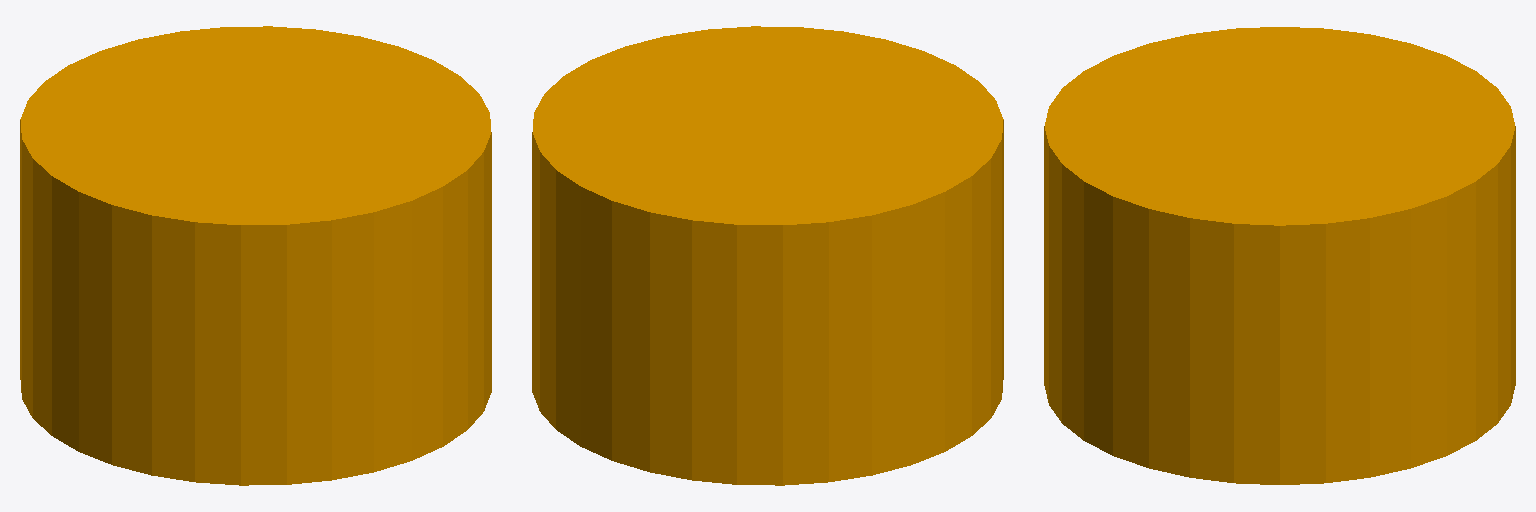
robot.urdf — e-puck:
<?xml version="1.0"?>
<robot name="e-puck" xmlns:xacro="http://ros.org/wiki/xacro">
  <link name="base_link">
    <visual>
      <origin xyz="0 0 0.025" rpy="3.141589 0 0"/>
      <geometry>
        <cylinder radius="0.037" length="0.045"/>
      </geometry>
    </visual>
    <collision>
      <origin xyz="0 0 0.025" rpy="3.141589 0 0"/>
      <geometry>
        <cylinder radius="0.037" length="0.045"/>
      </geometry>
    </collision>
    <visual>
      <origin xyz="0 0 0.0051" rpy="0 0 0"/>
      <geometry>
        <box size="0.05 0.04 0.01"/>
      </geometry>
    </visual>
    <collision>
      <origin xyz="0 0 0.0051" rpy="0 0 0"/>
      <geometry>
        <box size="0.05 0.04 0.01"/>
      </geometry>
    </collision>
  </link>
  <link name="ts_emitter">
  </link>
  <joint name="base_link_ts_emitter_joint" type="fixed">
    <parent link="base_link"/>
    <child link="ts_emitter"/>
    <origin xyz="-0.0095 0 0.0486" rpy="0 0 0"/>
  </joint>
  <link name="speaker">
  </link>
  <joint name="base_link_speaker_joint" type="fixed">
    <parent link="base_link"/>
    <child link="speaker"/>
    <origin xyz="0 0 0" rpy="0 0 0"/>
  </joint>
  <link name="emitter">
  </link>
  <joint name="base_link_emitter_joint" type="fixed">
    <parent link="base_link"/>
    <child link="emitter"/>
    <origin xyz="0 0 0" rpy="0 0 0"/>
  </joint>
  <link name="receiver">
  </link>
  <joint name="base_link_receiver_joint" type="fixed">
    <parent link="base_link"/>
    <child link="receiver"/>
    <origin xyz="0 0 0" rpy="0 0 0"/>
  </joint>
  <link name="pipe">
  </link>
  <joint name="base_link_pipe_joint" type="fixed">
    <parent link="base_link"/>
    <child link="pipe"/>
    <origin xyz="0 0 0.0393" rpy="0 0 0"/>
  </joint>
  <link name="gyro">
  </link>
  <joint name="base_link_gyro_joint" type="fixed">
    <parent link="base_link"/>
    <child link="gyro"/>
    <origin xyz="0 0 0" rpy="0 0 0"/>
  </joint>
  <link name="accelerometer">
  </link>
  <joint name="base_link_accelerometer_joint" type="fixed">
    <parent link="base_link"/>
    <child link="accelerometer"/>
    <origin xyz="0 0 0" rpy="0 0 0"/>
  </joint>
  <link name="led9">
  </link>
  <joint name="base_link_led9_joint" type="fixed">
    <parent link="base_link"/>
    <child link="led9"/>
    <origin xyz="0.031 -0.0125 0.0285" rpy="0 0 0"/>
  </joint>
  <link name="led8">
  </link>
  <joint name="base_link_led8_joint" type="fixed">
    <parent link="base_link"/>
    <child link="led8"/>
    <origin xyz="0 0 0" rpy="0 0 -1.570786"/>
  </joint>
  <link name="led7">
  </link>
  <joint name="base_link_led7_joint" type="fixed">
    <parent link="base_link"/>
    <child link="led7"/>
    <origin xyz="0.022 0.025 0.041" rpy="0 0 0.783185"/>
  </joint>
  <link name="led6">
  </link>
  <joint name="base_link_led6_joint" type="fixed">
    <parent link="base_link"/>
    <child link="led6"/>
    <origin xyz="0 0.0337 0.041" rpy="0 0 1.57"/>
  </joint>
  <link name="led5">
  </link>
  <joint name="base_link_led5_joint" type="fixed">
    <parent link="base_link"/>
    <child link="led5"/>
    <origin xyz="-0.027 0.0201 0.041" rpy="0 0 -0.633185"/>
  </joint>
  <link name="led4">
  </link>
  <joint name="base_link_led4_joint" type="fixed">
    <parent link="base_link"/>
    <child link="led4"/>
    <origin xyz="-0.033 0 0.041" rpy="0 0 0"/>
  </joint>
  <link name="led3">
  </link>
  <joint name="base_link_led3_joint" type="fixed">
    <parent link="base_link"/>
    <child link="led3"/>
    <origin xyz="-0.027 -0.0201 0.041" rpy="0 0 0.633185"/>
  </joint>
  <link name="led2">
  </link>
  <joint name="base_link_led2_joint" type="fixed">
    <parent link="base_link"/>
    <child link="led2"/>
    <origin xyz="0 -0.0337 0.041" rpy="0 0 1.57"/>
  </joint>
  <link name="led1">
  </link>
  <joint name="base_link_led1_joint" type="fixed">
    <parent link="base_link"/>
    <child link="led1"/>
    <origin xyz="0.022 -0.025 0.041" rpy="0 0 -0.783185"/>
  </joint>
  <link name="led0">
  </link>
  <joint name="base_link_led0_joint" type="fixed">
    <parent link="base_link"/>
    <child link="led0"/>
    <origin xyz="0.0337 0 0.041" rpy="0 0 0"/>
  </joint>
  <link name="camera">
  </link>
  <joint name="base_link_camera_joint" type="fixed">
    <parent link="base_link"/>
    <child link="camera"/>
    <origin xyz="0.03 0 0.028" rpy="-1.570796 0 -1.570796"/>
  </joint>
  <link name="ls7">
  </link>
  <joint name="base_link_ls7_joint" type="fixed">
    <parent link="base_link"/>
    <child link="ls7"/>
    <origin xyz="0.03 0.01 0.0329" rpy="1.570806 -0.000007 0.2992"/>
  </joint>
  <link name="ls6">
  </link>
  <joint name="base_link_ls6_joint" type="fixed">
    <parent link="base_link"/>
    <child link="ls6"/>
    <origin xyz="0.022 0.025 0.0329" rpy="1.570801 -0.00001 0.7992"/>
  </joint>
  <link name="ls5">
  </link>
  <joint name="base_link_ls5_joint" type="fixed">
    <parent link="base_link"/>
    <child link="ls5"/>
    <origin xyz="0 0.031 0.0329" rpy="1.570793 -0.000011 1.57079"/>
  </joint>
  <link name="ls4">
  </link>
  <joint name="base_link_ls4_joint" type="fixed">
    <parent link="base_link"/>
    <child link="ls4"/>
    <origin xyz="-0.03 0.015 0.0329" rpy="1.570787 -0.000003 2.6392"/>
  </joint>
  <link name="ls3">
  </link>
  <joint name="base_link_ls3_joint" type="fixed">
    <parent link="base_link"/>
    <child link="ls3"/>
    <origin xyz="-0.03 -0.015 0.0329" rpy="1.570788 0.000007 -2.643986"/>
  </joint>
  <link name="ls2">
  </link>
  <joint name="base_link_ls2_joint" type="fixed">
    <parent link="base_link"/>
    <child link="ls2"/>
    <origin xyz="0 -0.031 0.0329" rpy="1.5708 0.00001 -1.5708"/>
  </joint>
  <link name="ls1">
  </link>
  <joint name="base_link_ls1_joint" type="fixed">
    <parent link="base_link"/>
    <child link="ls1"/>
    <origin xyz="0.022 -0.025 0.0329" rpy="1.570806 0.000005 -0.8008"/>
  </joint>
  <link name="ls0">
  </link>
  <joint name="base_link_ls0_joint" type="fixed">
    <parent link="base_link"/>
    <child link="ls0"/>
    <origin xyz="0.03 -0.01 0.0329" rpy="1.570807 0 -0.3008"/>
  </joint>
  <link name="ps7">
  </link>
  <joint name="base_link_ps7_joint" type="fixed">
    <parent link="base_link"/>
    <child link="ps7"/>
    <origin xyz="0.03 0.01 0.033" rpy="1.570806 -0.000007 0.2992"/>
  </joint>
  <link name="ps7_0">
  </link>
  <joint name="ps7_ps7_0_joint" type="fixed">
    <parent link="ps7"/>
    <child link="ps7_0"/>
    <origin xyz="0 0 0" rpy="-1.570799 0 0.16"/>
  </joint>
  <link name="appearance">
  </link>
  <joint name="ps7_0_appearance_joint" type="fixed">
    <parent link="ps7_0"/>
    <child link="appearance"/>
    <origin xyz="0 0 0" rpy="0 0 0"/>
  </joint>
  <link name="ps6">
  </link>
  <joint name="base_link_ps6_joint" type="fixed">
    <parent link="base_link"/>
    <child link="ps6"/>
    <origin xyz="0.022 0.025 0.033" rpy="1.570801 -0.00001 0.7992"/>
  </joint>
  <link name="ps6_1">
  </link>
  <joint name="ps6_ps6_1_joint" type="fixed">
    <parent link="ps6"/>
    <child link="ps6_1"/>
    <origin xyz="0 0 0" rpy="-1.570799 0 0.16"/>
  </joint>
  <link name="appearance_2">
  </link>
  <joint name="ps6_1_appearance_2_joint" type="fixed">
    <parent link="ps6_1"/>
    <child link="appearance_2"/>
    <origin xyz="0 0 0" rpy="0 0 0"/>
  </joint>
  <link name="ps5">
  </link>
  <joint name="base_link_ps5_joint" type="fixed">
    <parent link="base_link"/>
    <child link="ps5"/>
    <origin xyz="0 0.031 0.033" rpy="1.570793 -0.000011 1.57079"/>
  </joint>
  <link name="ps5_3">
  </link>
  <joint name="ps5_ps5_3_joint" type="fixed">
    <parent link="ps5"/>
    <child link="ps5_3"/>
    <origin xyz="0 0 0" rpy="-1.570799 0 0.16"/>
  </joint>
  <link name="appearance_4">
  </link>
  <joint name="ps5_3_appearance_4_joint" type="fixed">
    <parent link="ps5_3"/>
    <child link="appearance_4"/>
    <origin xyz="0 0 0" rpy="0 0 0"/>
  </joint>
  <link name="ps4">
  </link>
  <joint name="base_link_ps4_joint" type="fixed">
    <parent link="base_link"/>
    <child link="ps4"/>
    <origin xyz="-0.03 0.015 0.033" rpy="1.570787 -0.000003 2.6392"/>
  </joint>
  <link name="ps4_5">
  </link>
  <joint name="ps4_ps4_5_joint" type="fixed">
    <parent link="ps4"/>
    <child link="ps4_5"/>
    <origin xyz="0 0 0" rpy="-1.570799 0 0.16"/>
  </joint>
  <link name="appearance_6">
  </link>
  <joint name="ps4_5_appearance_6_joint" type="fixed">
    <parent link="ps4_5"/>
    <child link="appearance_6"/>
    <origin xyz="0 0 0" rpy="0 0 0"/>
  </joint>
  <link name="ps3">
  </link>
  <joint name="base_link_ps3_joint" type="fixed">
    <parent link="base_link"/>
    <child link="ps3"/>
    <origin xyz="-0.03 -0.015 0.033" rpy="1.570788 0.000007 -2.643986"/>
  </joint>
  <link name="ps3_7">
  </link>
  <joint name="ps3_ps3_7_joint" type="fixed">
    <parent link="ps3"/>
    <child link="ps3_7"/>
    <origin xyz="0 0 0" rpy="-1.570799 0 0.16"/>
  </joint>
  <link name="appearance_8">
  </link>
  <joint name="ps3_7_appearance_8_joint" type="fixed">
    <parent link="ps3_7"/>
    <child link="appearance_8"/>
    <origin xyz="0 0 0" rpy="0 0 0"/>
  </joint>
  <link name="ps2">
  </link>
  <joint name="base_link_ps2_joint" type="fixed">
    <parent link="base_link"/>
    <child link="ps2"/>
    <origin xyz="0 -0.031 0.033" rpy="1.5708 0.00001 -1.5708"/>
  </joint>
  <link name="ps2_9">
  </link>
  <joint name="ps2_ps2_9_joint" type="fixed">
    <parent link="ps2"/>
    <child link="ps2_9"/>
    <origin xyz="0 0 0" rpy="-1.570799 0 0.16"/>
  </joint>
  <link name="appearance_10">
  </link>
  <joint name="ps2_9_appearance_10_joint" type="fixed">
    <parent link="ps2_9"/>
    <child link="appearance_10"/>
    <origin xyz="0 0 0" rpy="0 0 0"/>
  </joint>
  <link name="ps1">
  </link>
  <joint name="base_link_ps1_joint" type="fixed">
    <parent link="base_link"/>
    <child link="ps1"/>
    <origin xyz="0.022 -0.025 0.033" rpy="1.570806 0.000005 -0.8008"/>
  </joint>
  <link name="ps1_11">
  </link>
  <joint name="ps1_ps1_11_joint" type="fixed">
    <parent link="ps1"/>
    <child link="ps1_11"/>
    <origin xyz="0 0 0" rpy="-1.570799 0 0.16"/>
  </joint>
  <link name="appearance_12">
  </link>
  <joint name="ps1_11_appearance_12_joint" type="fixed">
    <parent link="ps1_11"/>
    <child link="appearance_12"/>
    <origin xyz="0 0 0" rpy="0 0 0"/>
  </joint>
  <link name="ps0">
  </link>
  <joint name="base_link_ps0_joint" type="fixed">
    <parent link="base_link"/>
    <child link="ps0"/>
    <origin xyz="0.03 -0.01 0.033" rpy="1.570807 0 -0.3008"/>
  </joint>
  <link name="ps0_13">
  </link>
  <joint name="ps0_ps0_13_joint" type="fixed">
    <parent link="ps0"/>
    <child link="ps0_13"/>
    <origin xyz="0 0 0" rpy="-1.570799 0 0.16"/>
  </joint>
  <link name="appearance_14">
  </link>
  <joint name="ps0_13_appearance_14_joint" type="fixed">
    <parent link="ps0_13"/>
    <child link="appearance_14"/>
    <origin xyz="0 0 0" rpy="0 0 0"/>
  </joint>
  <joint name="right wheel motor" type="continuous">
    <parent link="base_link"/>
    <child link="right wheel"/>
    <axis xyz="0 1 0"/>
    <limit effort="10" velocity="6.28"/>
    <origin xyz="0 0 0.02" rpy="0 0 0"/>
  </joint>
  <link name="right wheel">
    <visual>
      <origin xyz="0 -0.026 0" rpy="1.570796 0 0"/>
      <geometry>
        <cylinder radius="0.02" length="0.005"/>
      </geometry>
    </visual>
    <collision>
      <origin xyz="0 -0.026 0" rpy="1.570796 0 0"/>
      <geometry>
        <cylinder radius="0.02" length="0.005"/>
      </geometry>
    </collision>
  </link>
  <joint name="left wheel motor" type="continuous">
    <parent link="base_link"/>
    <child link="left wheel"/>
    <axis xyz="0 1 0"/>
    <limit effort="10" velocity="6.28"/>
    <origin xyz="0 -0.026 0.02" rpy="0 0 0"/>
  </joint>
  <link name="left wheel">
    <visual>
      <origin xyz="0 0.026 0" rpy="1.570796 0 0"/>
      <geometry>
        <cylinder radius="0.02" length="0.005"/>
      </geometry>
    </visual>
    <collision>
      <origin xyz="0 0.026 0" rpy="1.570796 0 0"/>
      <geometry>
        <cylinder radius="0.02" length="0.005"/>
      </geometry>
    </collision>
  </link>
</robot>

--- Render facts (derived) ---
3 views of the same robot in one strip: view 1: azimuth 30°, elevation 25°; view 2: azimuth 150°, elevation 25°; view 3: azimuth 270°, elevation 25° (orthographic).
Model e-puck with 53 links and 52 joints (2 continuous, 50 fixed), rooted at base_link, posed every joint at zero.
Links seen in each view (by area): view 1: base_link; view 2: base_link; view 3: base_link.
Boxes of the visible links, <box> form: base_link: <box>20,26,491,485</box>; base_link: <box>532,26,1003,485</box>; base_link: <box>1044,27,1515,484</box>.
Bounding box of the posed robot: 0.074 × 0.074 × 0.0475 m (x, y, z).
Geometry: primitives only (box / cylinder / sphere), no mesh files.